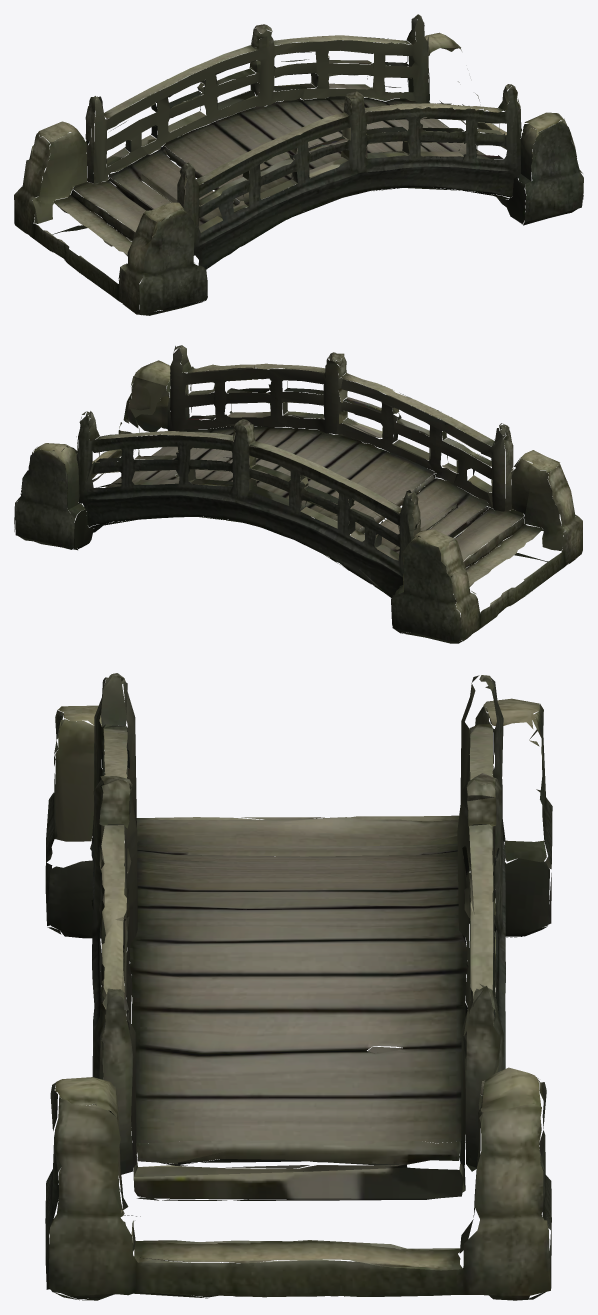
File: woodenBridge.glb
The picture shows the model from 3 angles, top to bottom: view 1: azimuth 30°, elevation 25°; view 2: azimuth 150°, elevation 25°; view 3: azimuth 270°, elevation 25°; orthographic projection. The views are drawn at different scales.
Parts seen in each view (by area): view 1: Prop_woodenBridge; view 2: Prop_woodenBridge; view 3: Prop_woodenBridge.
Part boxes in pixels (x1=…): Prop_woodenBridge: x1=14, y1=14, x2=583, y2=315; Prop_woodenBridge: x1=14, y1=345, x2=582, y2=643; Prop_woodenBridge: x1=45, y1=673, x2=552, y2=1300.
Size of the model in its own units: 7.28 by 2.5 by 3.56.
Materials: 1 (1 with a texture image).
